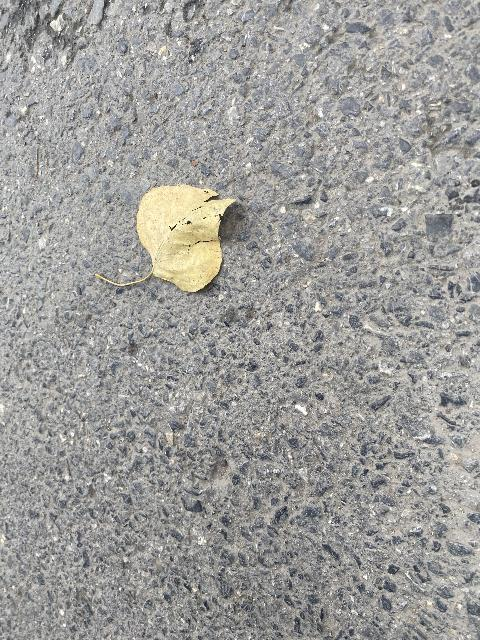Organik: (87, 170, 252, 317)
